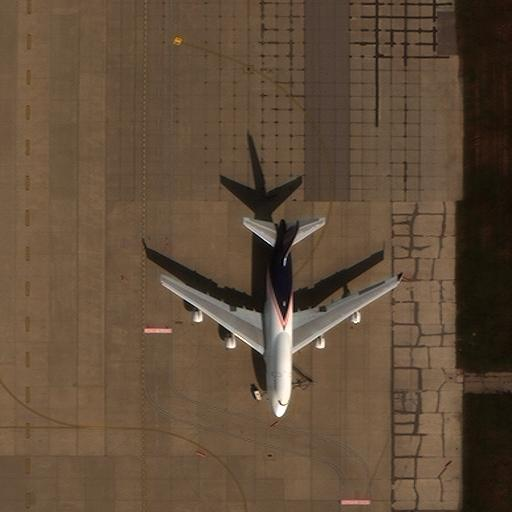Large Civil Transport: (161, 218, 403, 412)
